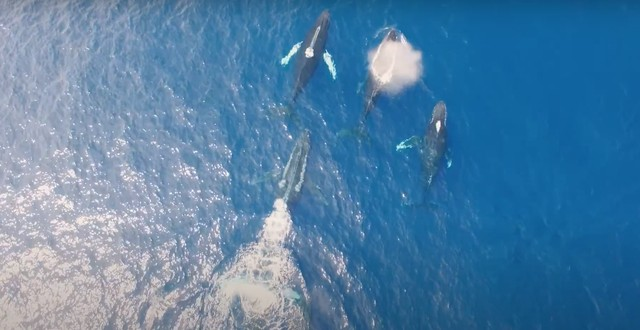whalew: (239, 123, 319, 264), (339, 20, 417, 143), (274, 4, 338, 137), (390, 95, 457, 213)
